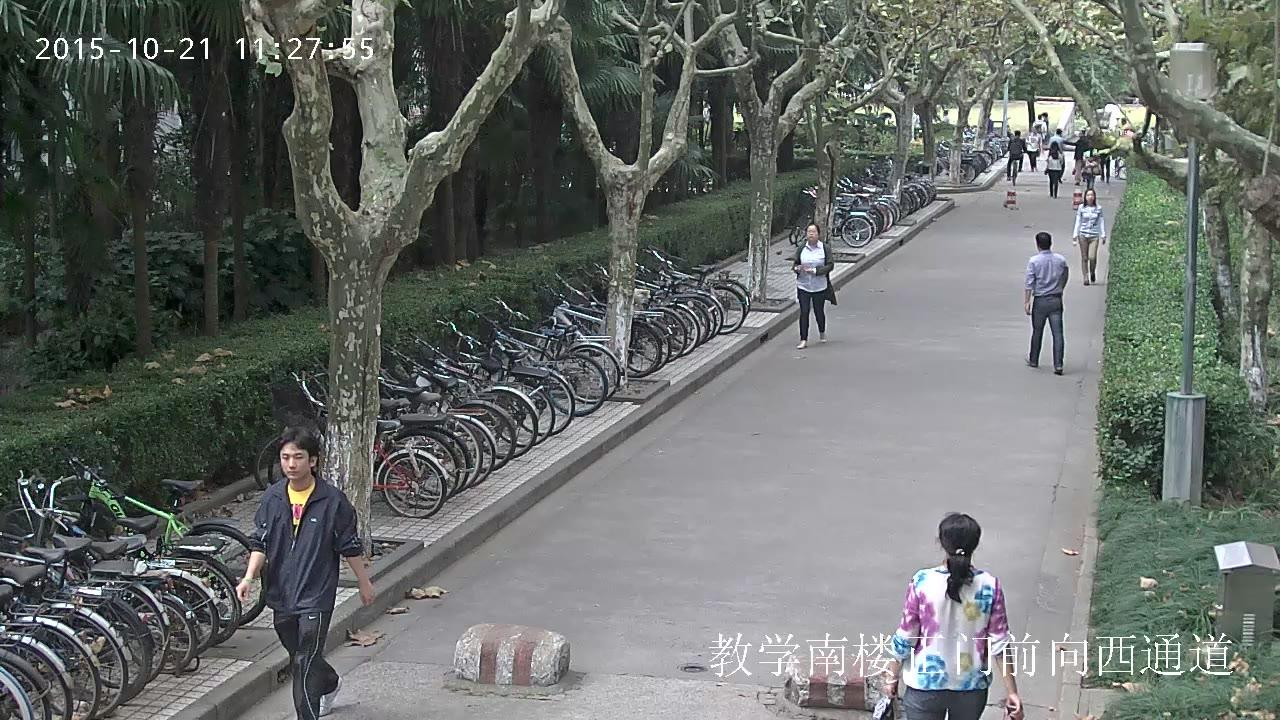person: (235, 428, 374, 720), (870, 512, 1023, 720), (1023, 231, 1069, 375), (791, 223, 836, 348), (1072, 188, 1105, 285), (1006, 129, 1027, 185), (1044, 142, 1062, 198), (1047, 127, 1064, 184), (1073, 129, 1090, 184), (1007, 130, 1026, 179), (1024, 126, 1040, 171), (1031, 113, 1046, 147), (1100, 155, 1111, 182)
